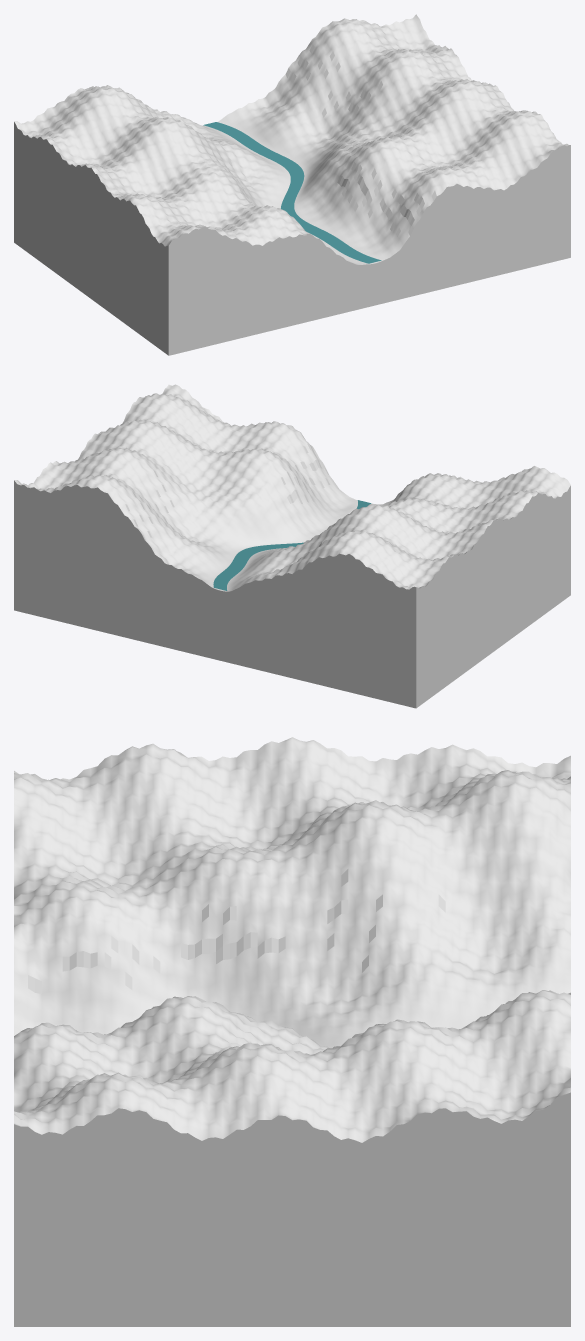
File: watershed-landscape-v2.glb
The picture shows the model from 3 angles, top to bottom: view 1: azimuth 30°, elevation 25°; view 2: azimuth 150°, elevation 25°; view 3: azimuth 270°, elevation 25°; orthographic projection. The views are drawn at different scales.
Visible parts, largest first — view 1: Watershed_surface.004, Watershed_soil_section.004, Watershed_river.004; view 2: Watershed_soil_section.004, Watershed_surface.004, Watershed_river.004; view 3: Watershed_surface.004, Watershed_soil_section.004.
Part boxes in pixels (left/top/right/bottom): Watershed_surface.004: left=14, top=14, right=570, bottom=264; Watershed_soil_section.004: left=14, top=122, right=570, bottom=355; Watershed_river.004: left=203, top=122, right=381, bottom=263; Watershed_soil_section.004: left=14, top=480, right=570, bottom=708; Watershed_surface.004: left=14, top=384, right=570, bottom=591; Watershed_river.004: left=213, top=500, right=371, bottom=590; Watershed_surface.004: left=14, top=737, right=570, bottom=1142; Watershed_soil_section.004: left=14, top=1092, right=570, bottom=1326.
Size of the model in its own units: 12 by 4.18 by 8.
